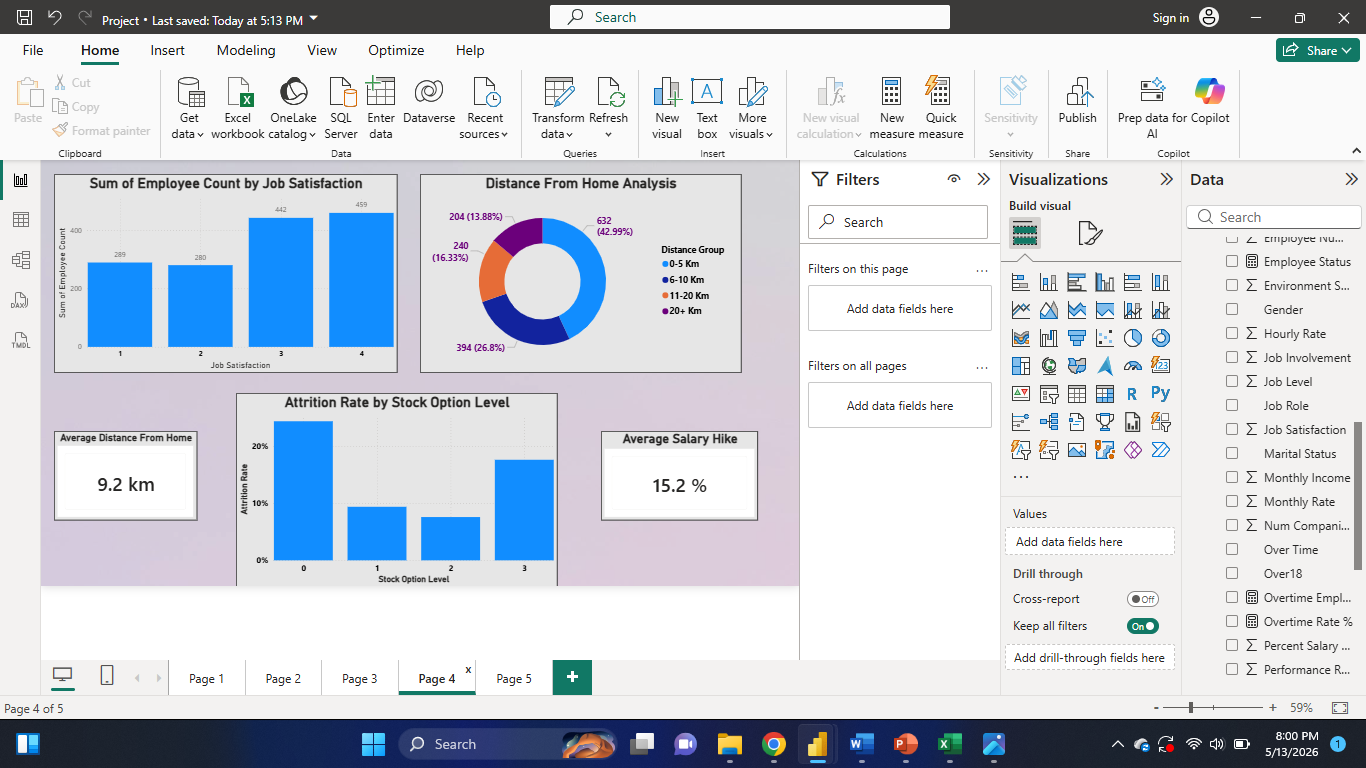

Layout of this report page (visuals, bound fields, positions):
{"tool":"powerbi","page":{"name":"Page 4","canvas":[1280,720],"ordinal":3},"visuals":[{"type":"clusteredColumnChart","fields":{"Category":["HR data.Job Satisfaction"],"Y":["Sum(HR data.Employee Count)"]},"box":[21.8,23.5,579.5,336],"z":0},{"type":"donutChart","title":"Distance From Home Analysis","fields":{"Y":["Sum(HR data.Employee Count)"],"Category":["HR data.Distance Group"]},"box":[640,23.5,542.6,336],"z":1000},{"type":"clusteredColumnChart","fields":{"Category":["HR data.Stock Option Level"],"Y":["HR data.Attrition Rate"]},"box":[329.2,393.1,542.6,327.6],"z":2000},{"type":"cardVisual","title":"Average Distance From Home","fields":{"Data":["HR data.Avg Distance KM"]},"box":[21.8,456.9,241.9,151.2],"z":3000},{"type":"cardVisual","title":"Average Salary Hike","fields":{"Data":["HR data.Avg Hike Display"]},"box":[945.7,456.9,265.4,151.2],"z":4000}]}

Visuals, with their boxes on the page's 1280x720 design canvas (x1, y1, x2, y2). These are canvas units, not pixel positions in the 1366x768 screenshot, which may show the page scaled, cropped or inside an application window:
clusteredColumnChart - HR data.Job Satisfaction x Sum(HR data.Employee Count): 22:24:601:360
"Distance From Home Analysis" donutChart: 640:24:1183:360
clusteredColumnChart - HR data.Stock Option Level x HR data.Attrition Rate: 329:393:872:721
"Average Distance From Home" cardVisual: 22:457:264:608
"Average Salary Hike" cardVisual: 946:457:1211:608
